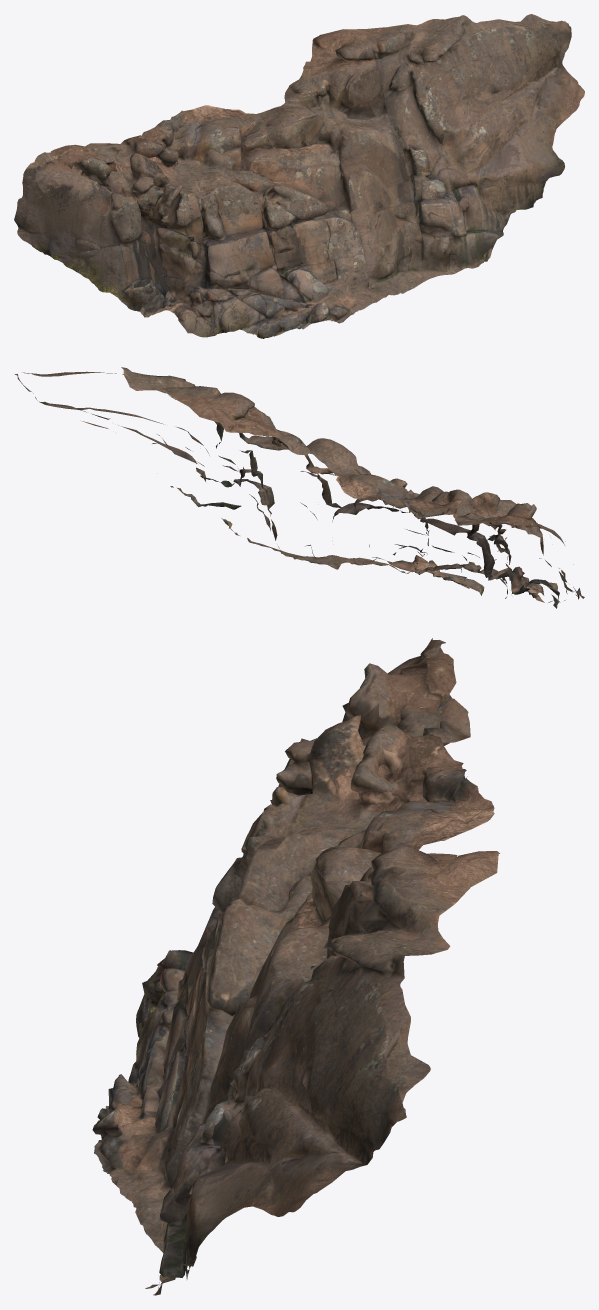
Rendered from namaqualand_cliff_02.gltf.
3 views of the same model, one above another, from view 1: azimuth 30°, elevation 25°; view 2: azimuth 150°, elevation 25°; view 3: azimuth 270°, elevation 25° (orthographic). The views are drawn at different scales.
Parts seen in each view (by area): view 1: namaqualand_cliff_02__x; view 2: namaqualand_cliff_02__x; view 3: namaqualand_cliff_02__x.
Boxes of the visible parts, x1,y1,x2,y2 form: namaqualand_cliff_02__x: (14, 14, 584, 338); namaqualand_cliff_02__x: (14, 367, 584, 608); namaqualand_cliff_02__x: (92, 638, 499, 1295).
Bounding box in the file's own units: 20.22 × 7.19 × 6.58.
Materials: 1 (1 with a texture image).
